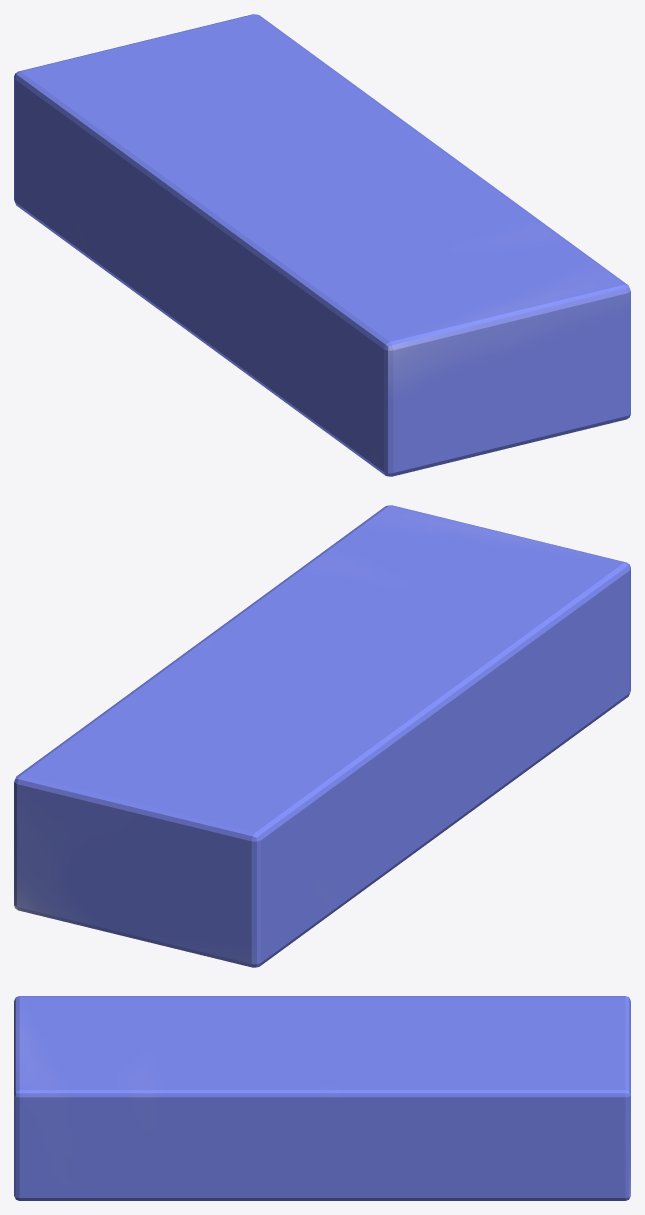
The model's file is MissingKey2.fbx.
The picture shows the model from 3 angles, top to bottom: view 1: azimuth 30°, elevation 25°; view 2: azimuth 150°, elevation 25°; view 3: azimuth 270°, elevation 25°; orthographic projection. The views are drawn at different scales.
Parts seen in each view (by area): view 1: Keys.005; view 2: Keys.005; view 3: Keys.005.
Part boxes in pixels (x1=…): Keys.005: x1=14, y1=14, x2=630, y2=476; Keys.005: x1=14, y1=505, x2=630, y2=967; Keys.005: x1=14, y1=996, x2=630, y2=1200.
Bounding box in the file's own units: 84.46 × 44.19 × 223.
